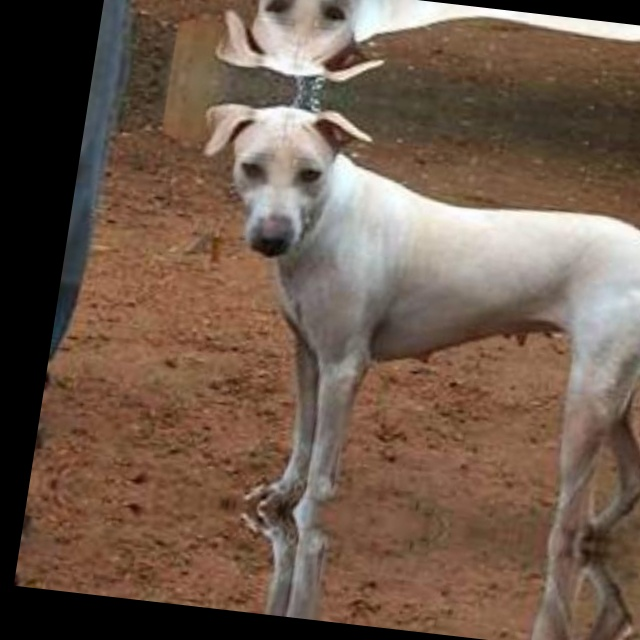dog: (138, 89, 640, 553), (121, 494, 640, 640), (202, 0, 640, 130)
